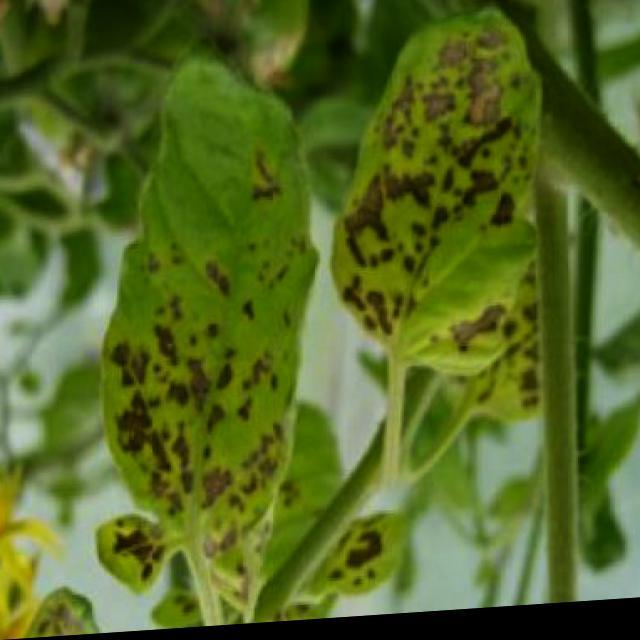Tomato late blight leaf: (40, 23, 328, 601), (316, 0, 544, 387)
